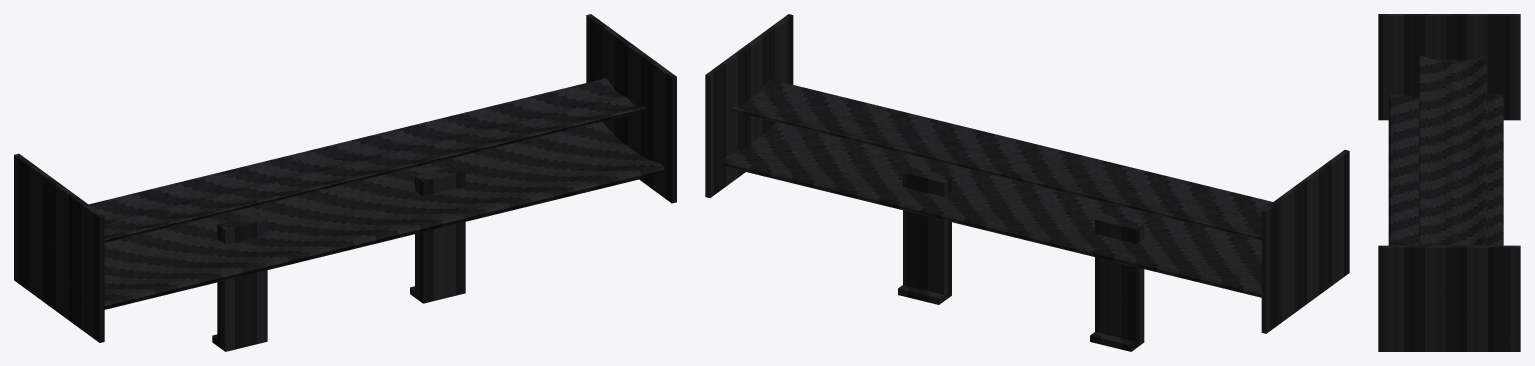
Rendered from wing_dual.obj.
3 views of the same model, side by side, from view 1: azimuth 30°, elevation 25°; view 2: azimuth 150°, elevation 25°; view 3: azimuth 270°, elevation 25° (orthographic). The views are drawn at different scales.
Size of the model in its own units: 1.63 by 0.56 by 0.42.
Materials: 1 (1 with a texture image).
